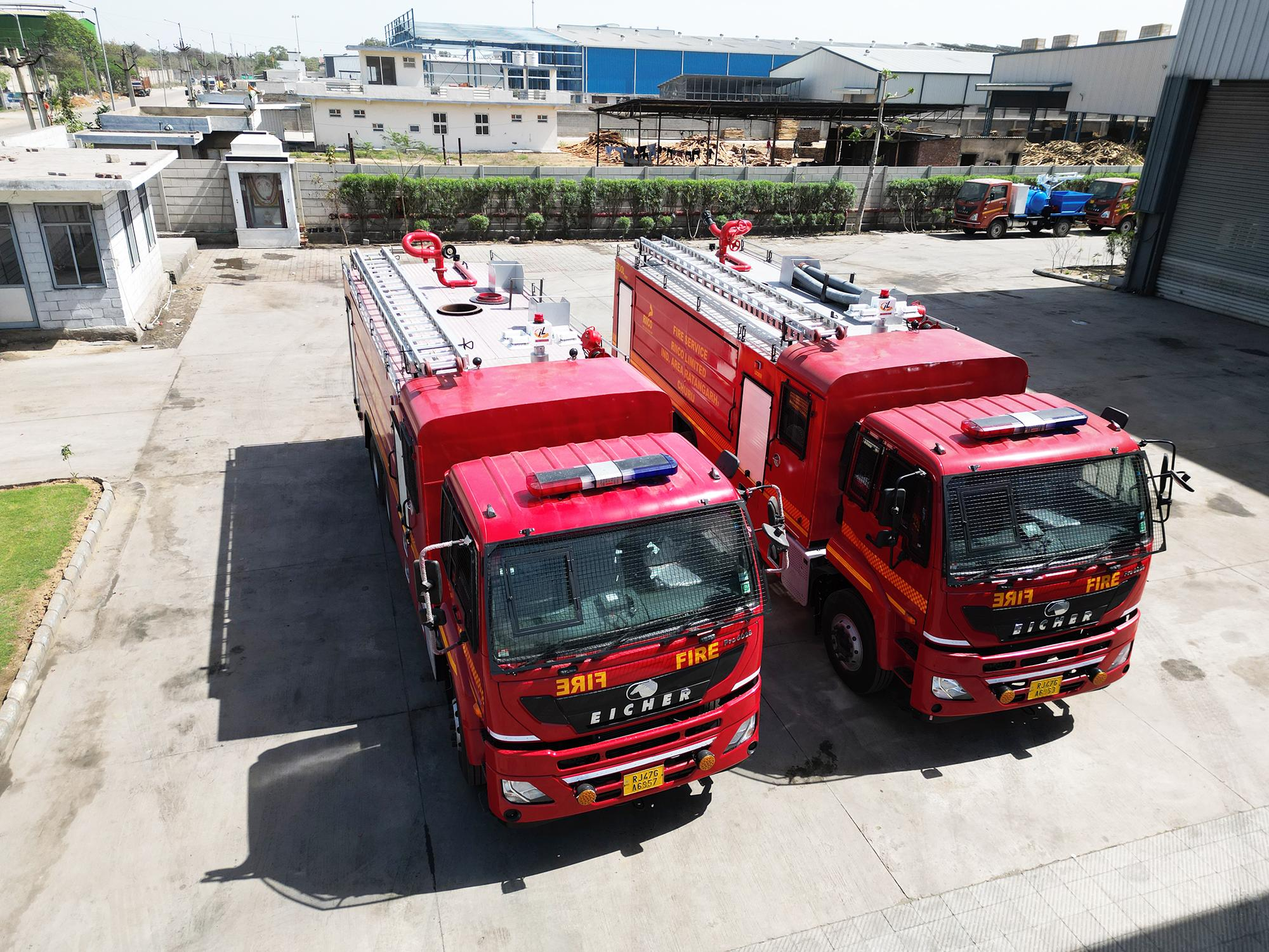Fire-engine: (634, 253, 1179, 728), (328, 253, 764, 841)
